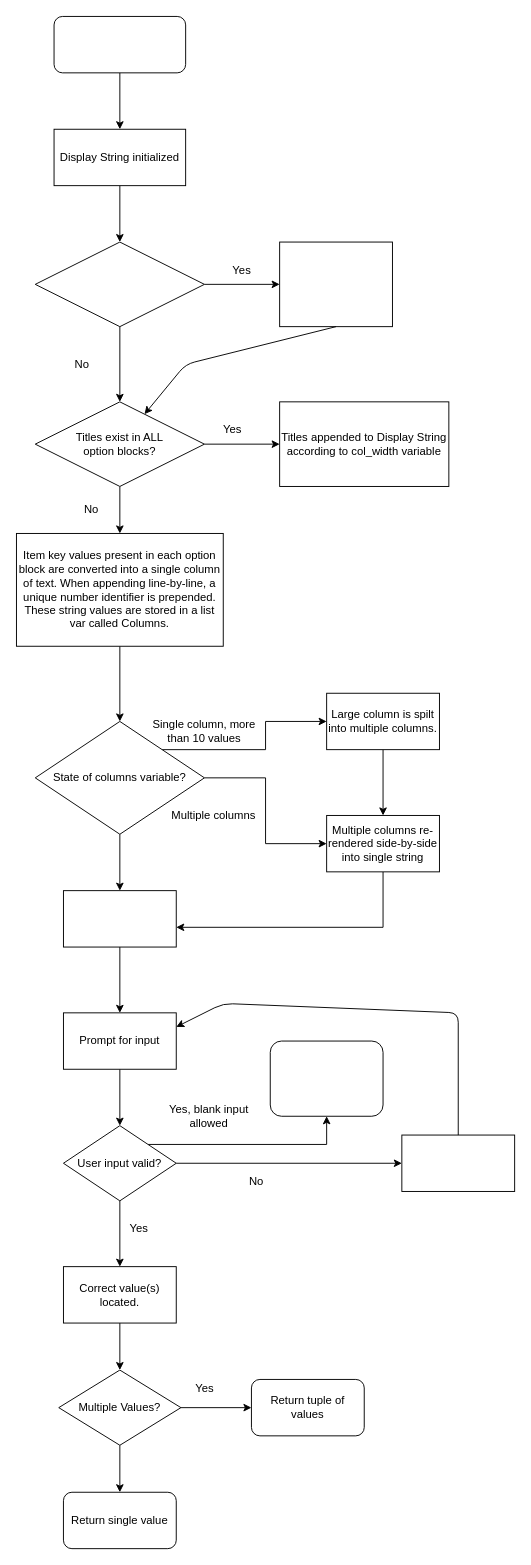
Some shapes in this 531 by 1565 pixel diagram are drawn without their labels. Here are the shapes that lost their labels. From the top down, the centre of each, then its label:
point 119,44: Option Blocks passed to list selection
point 119,284: Prompt supplied?
point 335,284: Prompt appended to Display String
point 119,918: Column appended to Display String
point 326,1078: Return None
point 458,1162: Error message
